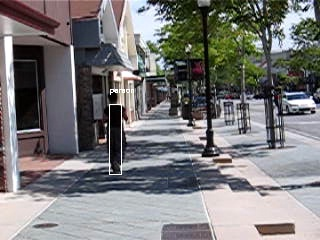person: (103, 91, 130, 176), (102, 91, 129, 176), (104, 91, 131, 176), (103, 90, 130, 175), (103, 92, 130, 177)
target_negative: (273, 35, 311, 230), (16, 198, 233, 230), (202, 63, 270, 164), (306, 36, 320, 229), (178, 217, 313, 232), (21, 219, 100, 228)
